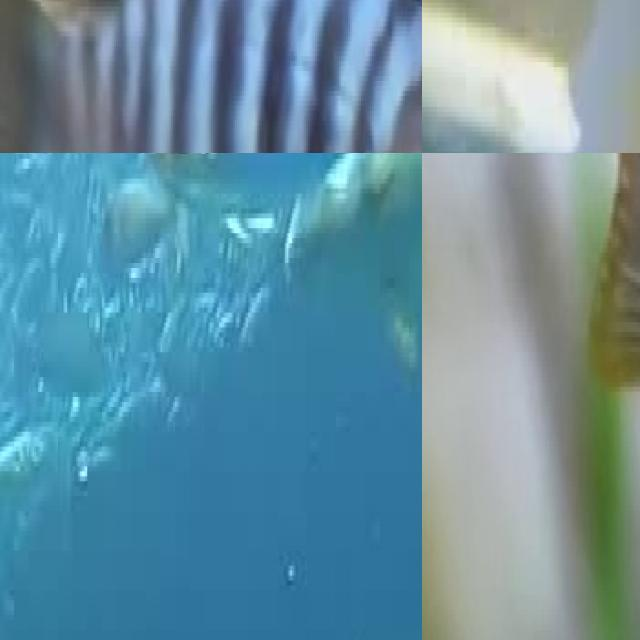fish: (0, 0, 422, 153), (583, 153, 640, 640), (512, 0, 640, 153)
